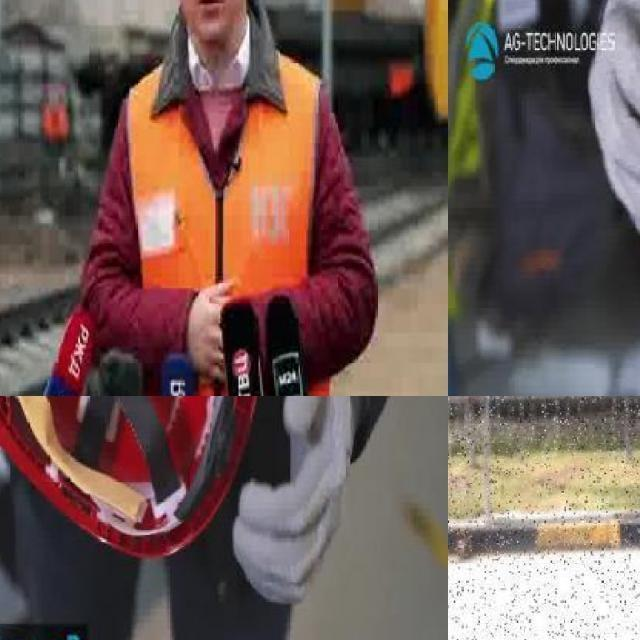apron: (231, 396, 360, 611), (588, 0, 640, 256)
